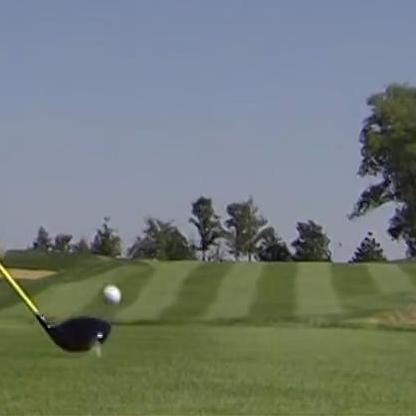golfball: (99, 282, 120, 305)
